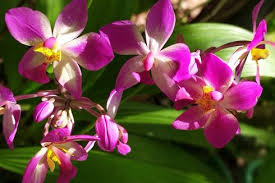orchid: (5, 4, 257, 176)
